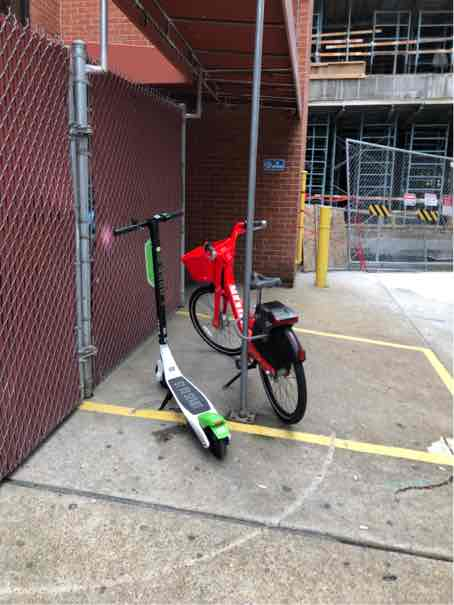scooter: (103, 207, 245, 474)
